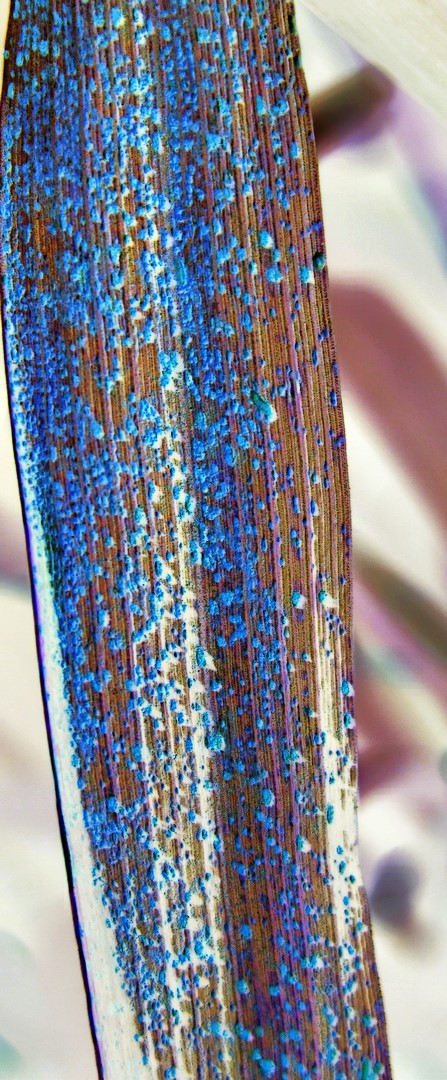Leaf Rust: (1, 17, 425, 1056)
